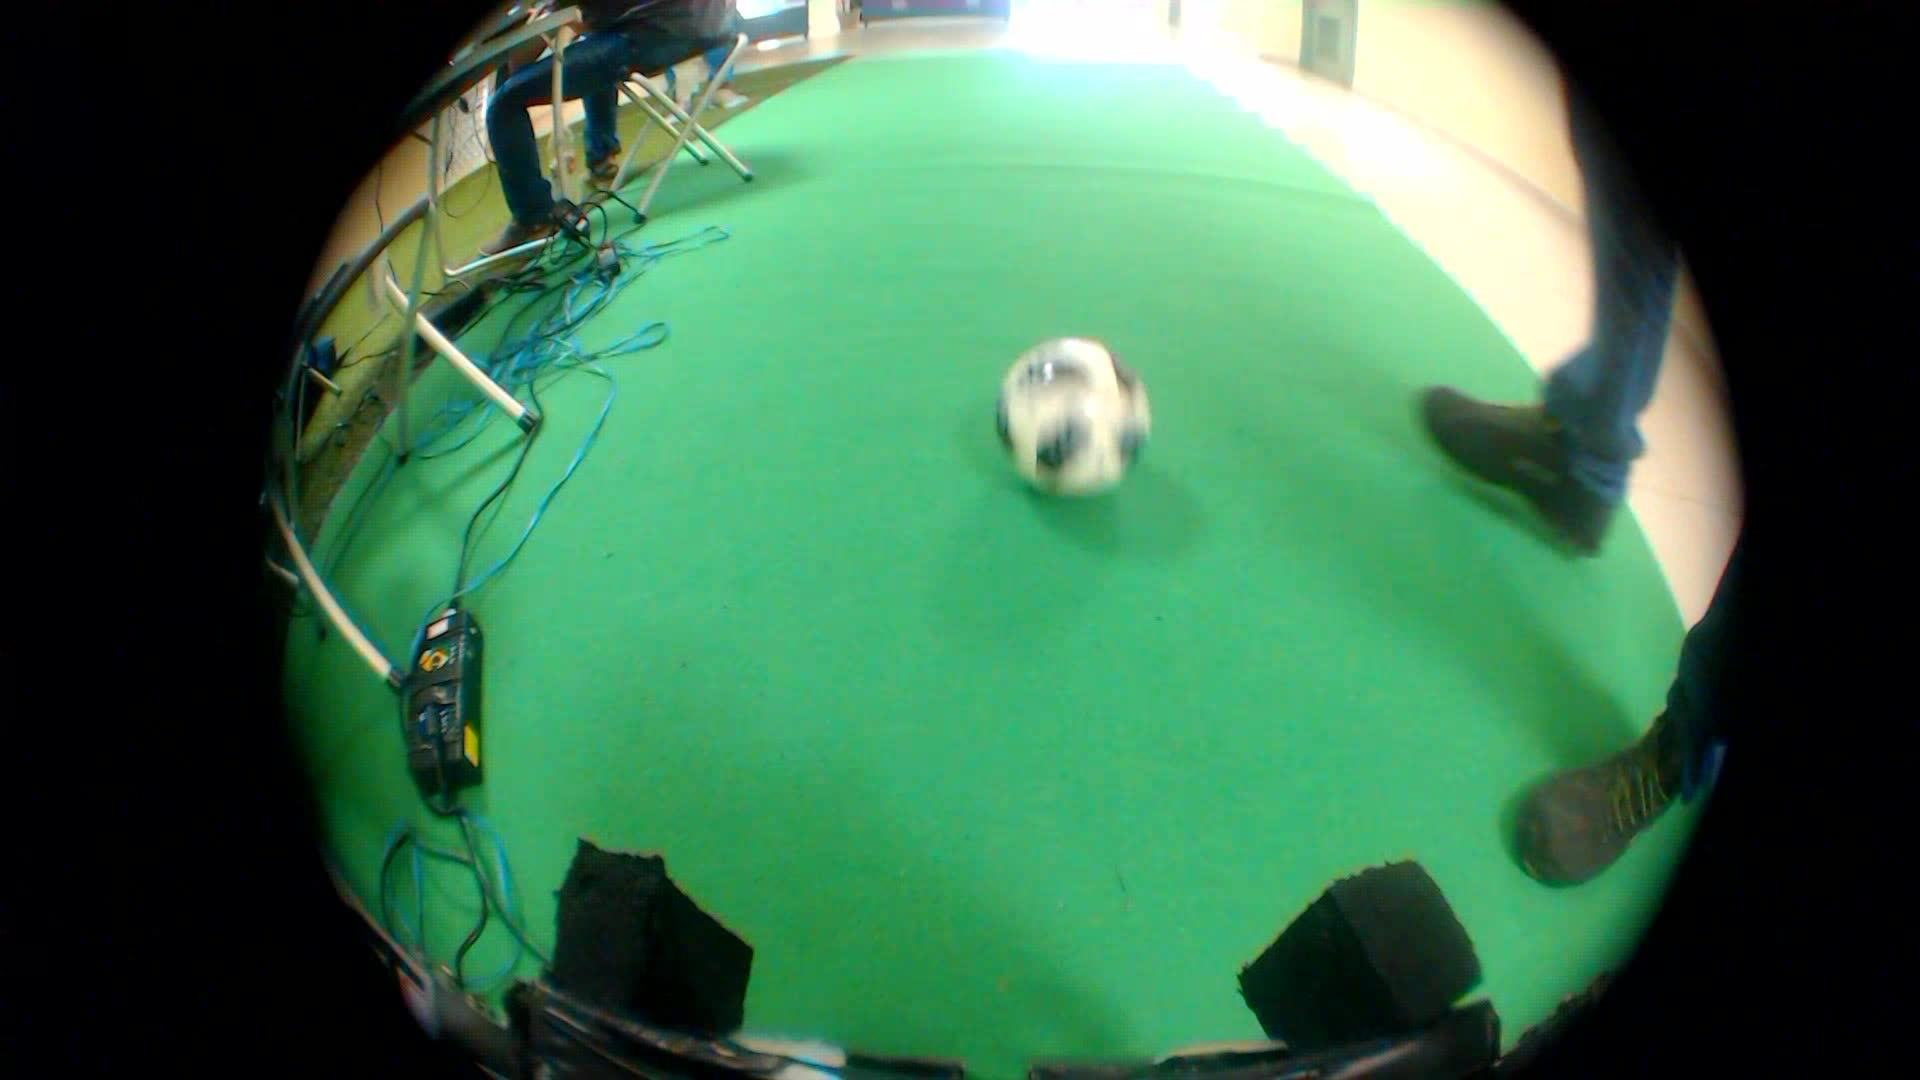ball: (980, 306, 1164, 520)
